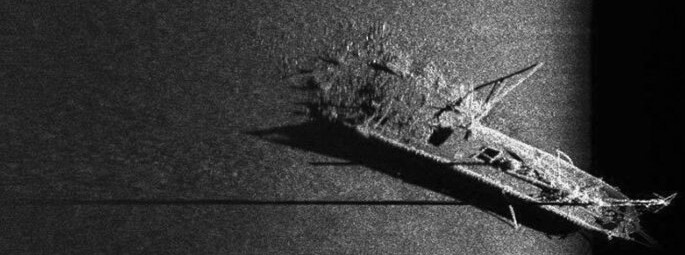ship: (325, 40, 651, 243)
